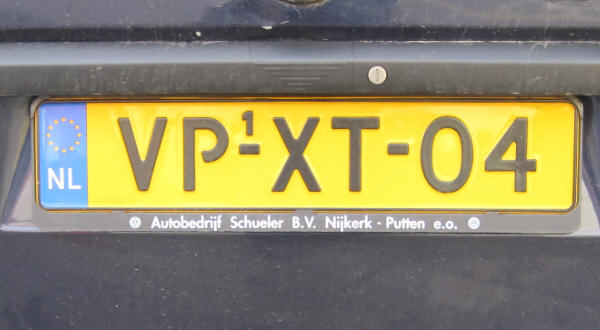license_plate: (33, 97, 579, 214)
